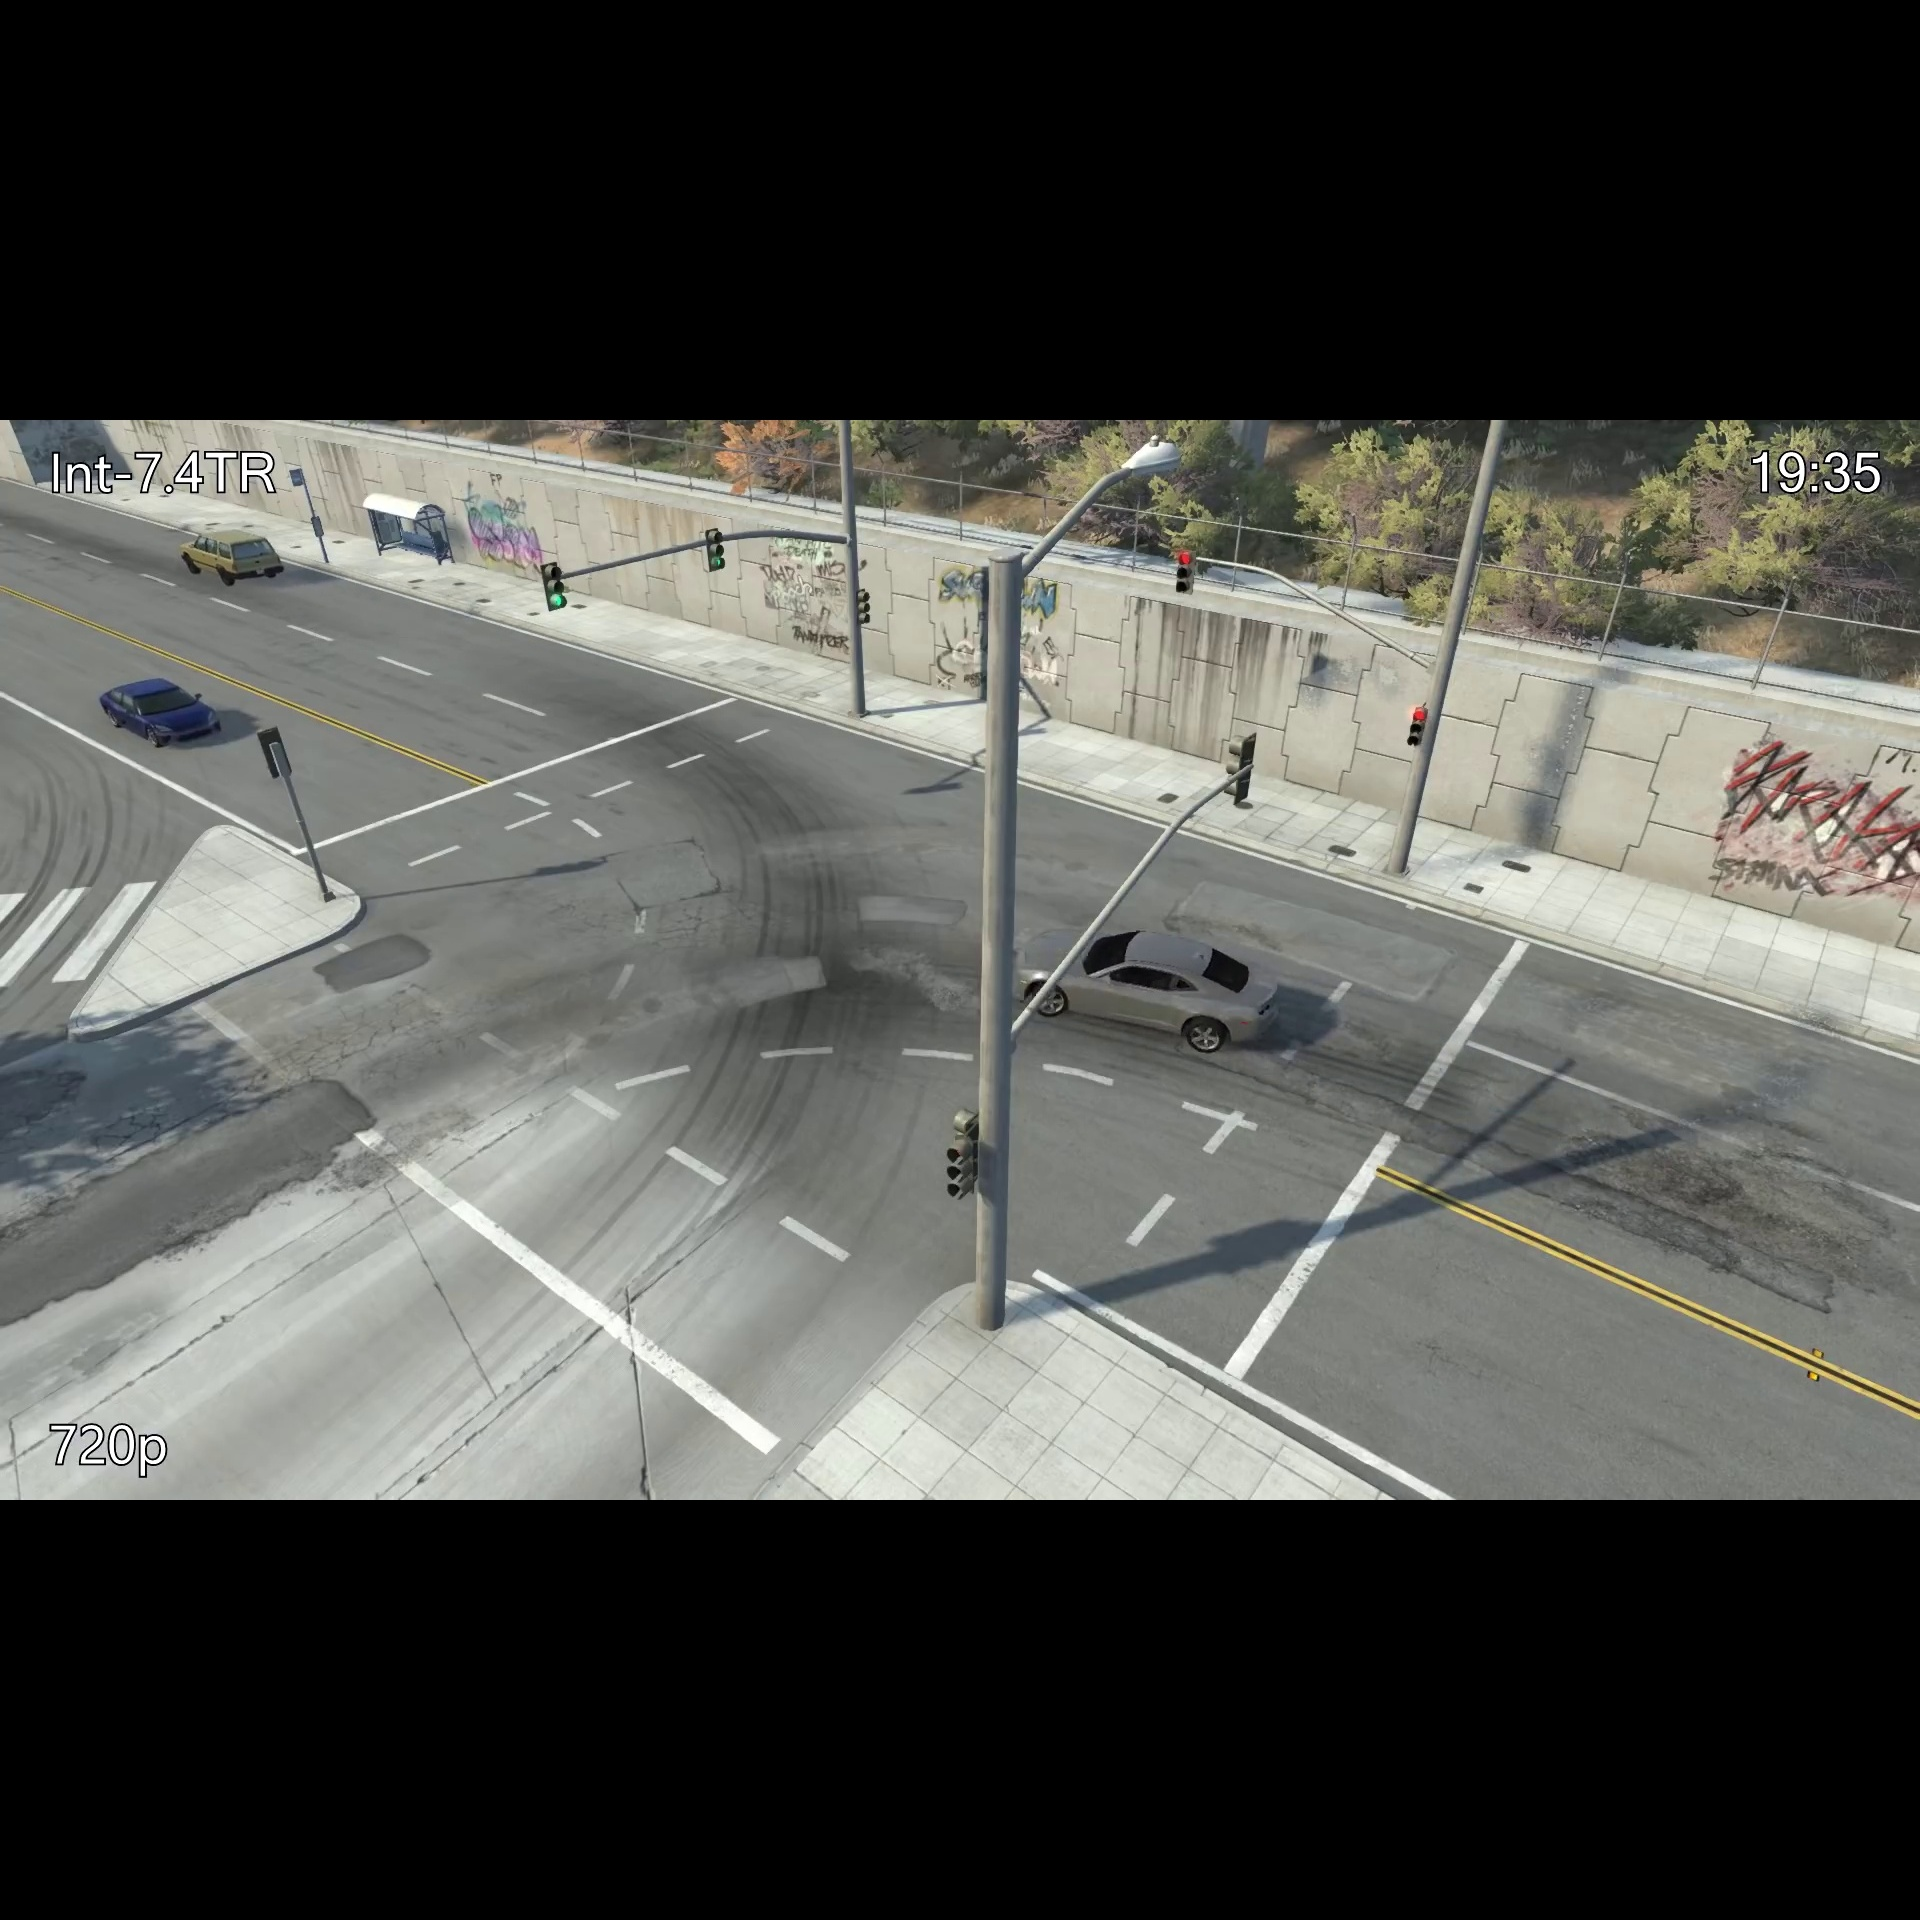vehicle: (1004, 920, 1284, 1060), (93, 672, 223, 751), (172, 524, 285, 587)
